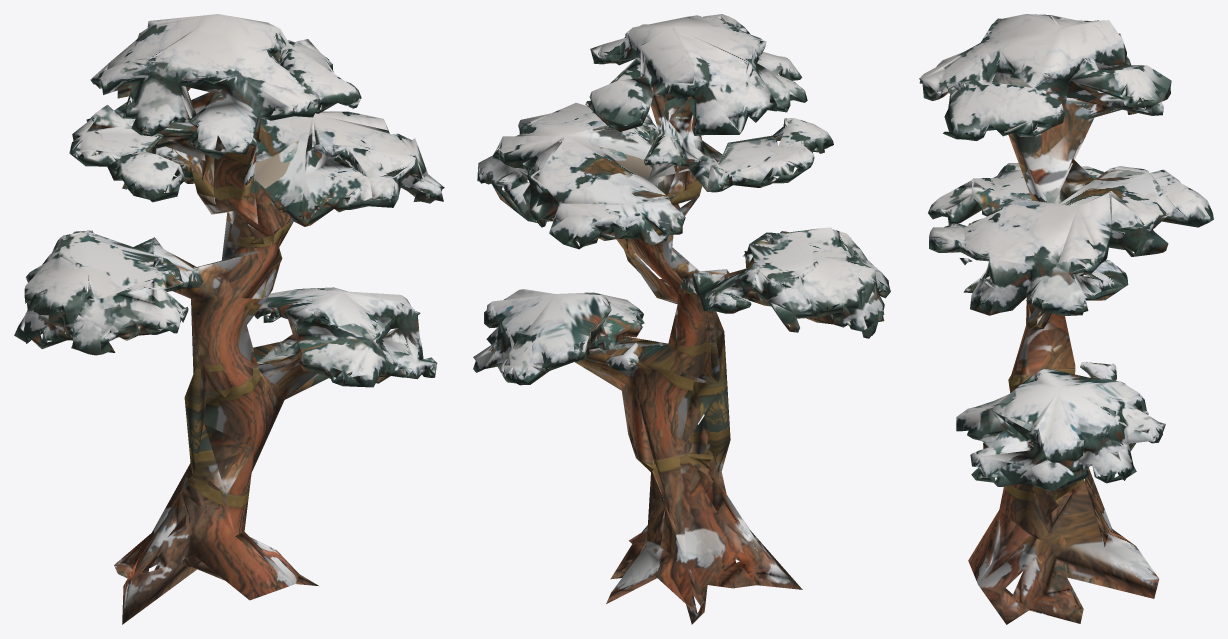
The model's file is PR_PineSnow.fbx.
The picture shows the model from 3 angles, left to right: view 1: azimuth 30°, elevation 25°; view 2: azimuth 150°, elevation 25°; view 3: azimuth 270°, elevation 25°; orthographic projection. The views are drawn at different scales.
Parts seen in each view (by area): view 1: texture_mapping; view 2: texture_mapping; view 3: texture_mapping.
Part boxes in pixels (x1,y1,x2,y2): texture_mapping: [14, 14, 444, 624]; texture_mapping: [473, 14, 890, 624]; texture_mapping: [919, 14, 1213, 624].
Size of the model in its own units: 0.6984 by 0.4511 by 0.961.
Materials: 1 (1 with a texture image).
